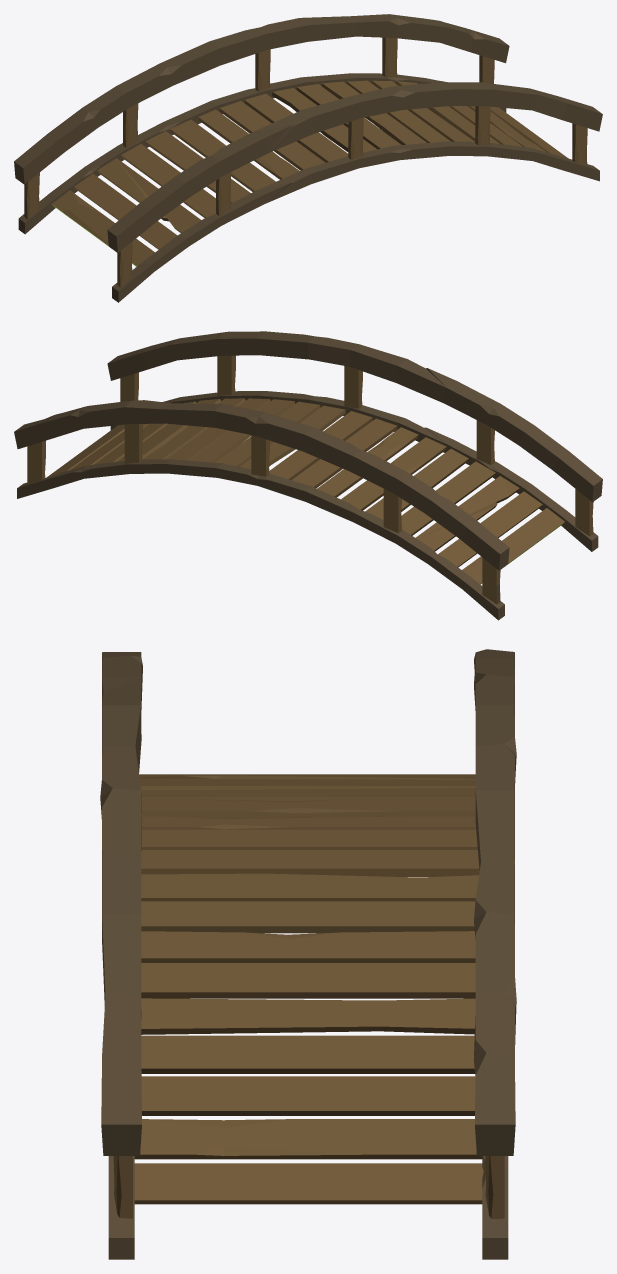
File: model_polytope_wood_bridge.fbx
3 views of the same model, one above another, from view 1: azimuth 30°, elevation 25°; view 2: azimuth 150°, elevation 25°; view 3: azimuth 270°, elevation 25° (orthographic). The views are drawn at different scales.
Visible parts, largest first — view 1: model_polytope_wood_bridge; view 2: model_polytope_wood_bridge; view 3: model_polytope_wood_bridge.
Boxes of the visible parts, x1=… form: model_polytope_wood_bridge: x1=14, y1=14, x2=602, y2=302; model_polytope_wood_bridge: x1=14, y1=331, x2=602, y2=620; model_polytope_wood_bridge: x1=100, y1=649, x2=516, y2=1259.
Size of the model in its own units: 876 by 249 by 325.
1 material, 1 textured.
